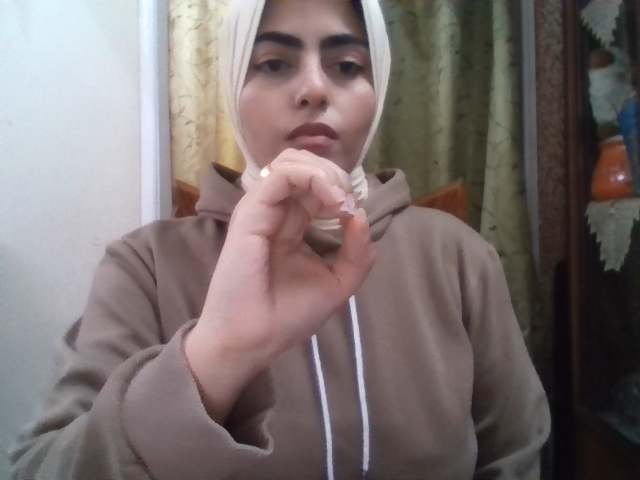O: (195, 147, 377, 362)
